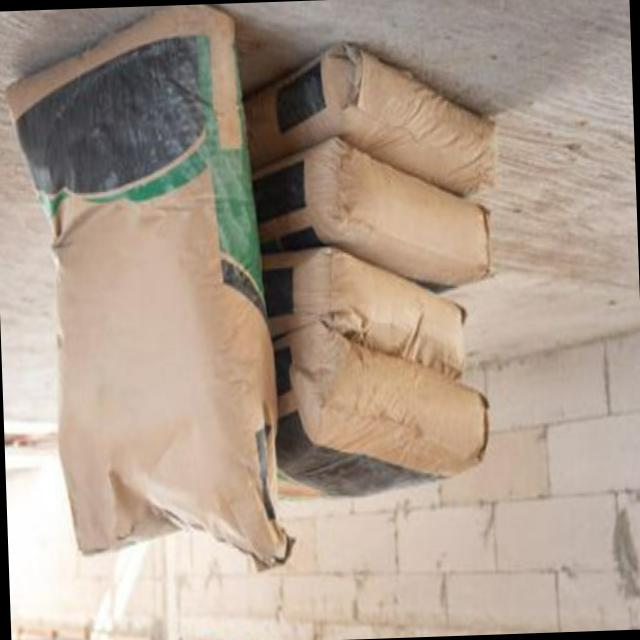KantongSemen: (1, 2, 298, 584), (244, 32, 504, 534)
